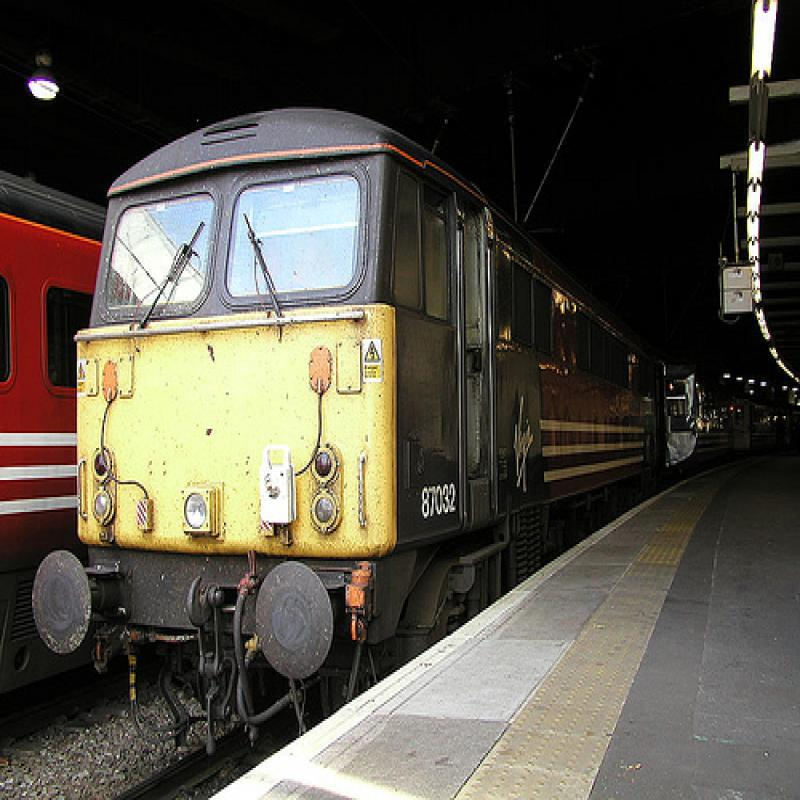train: (36, 112, 800, 754), (3, 172, 112, 699)
